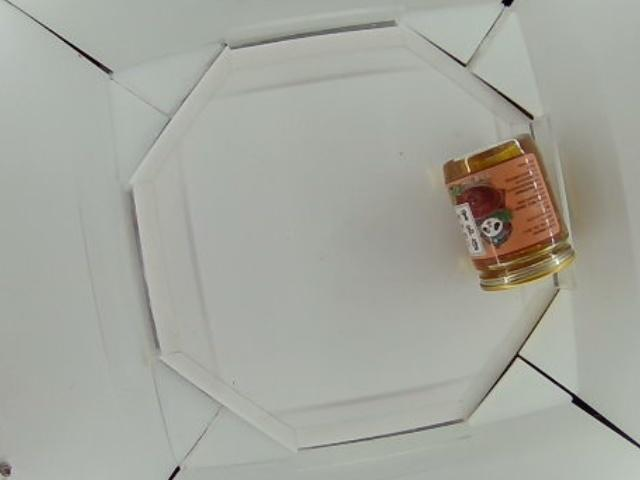Bottle: (443, 135, 580, 289)
